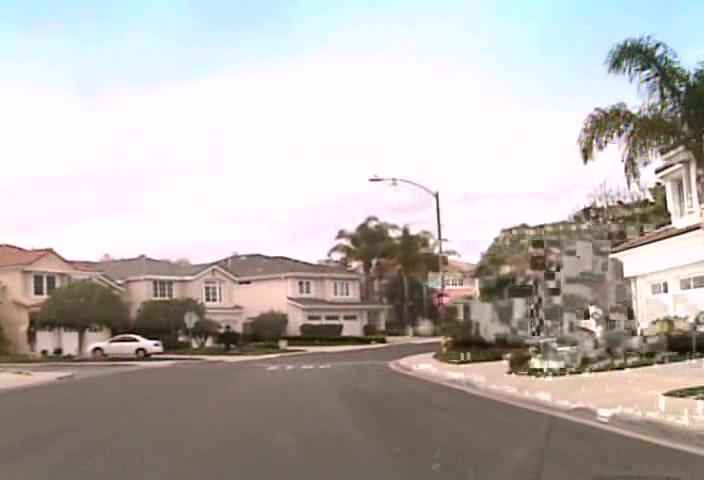stop: (432, 291, 451, 309)
